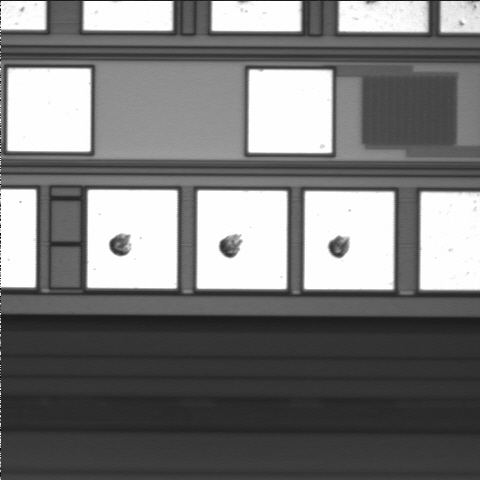pad: (87, 190, 177, 289), (197, 190, 287, 289), (304, 191, 394, 290), (7, 68, 91, 152), (248, 70, 332, 153)
